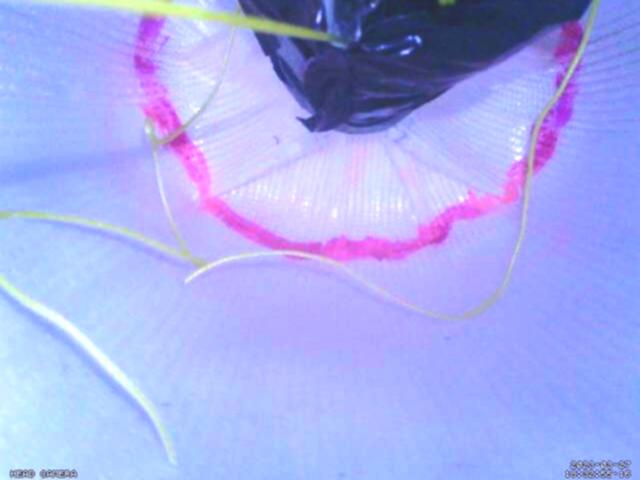head: (132, 14, 585, 264)
